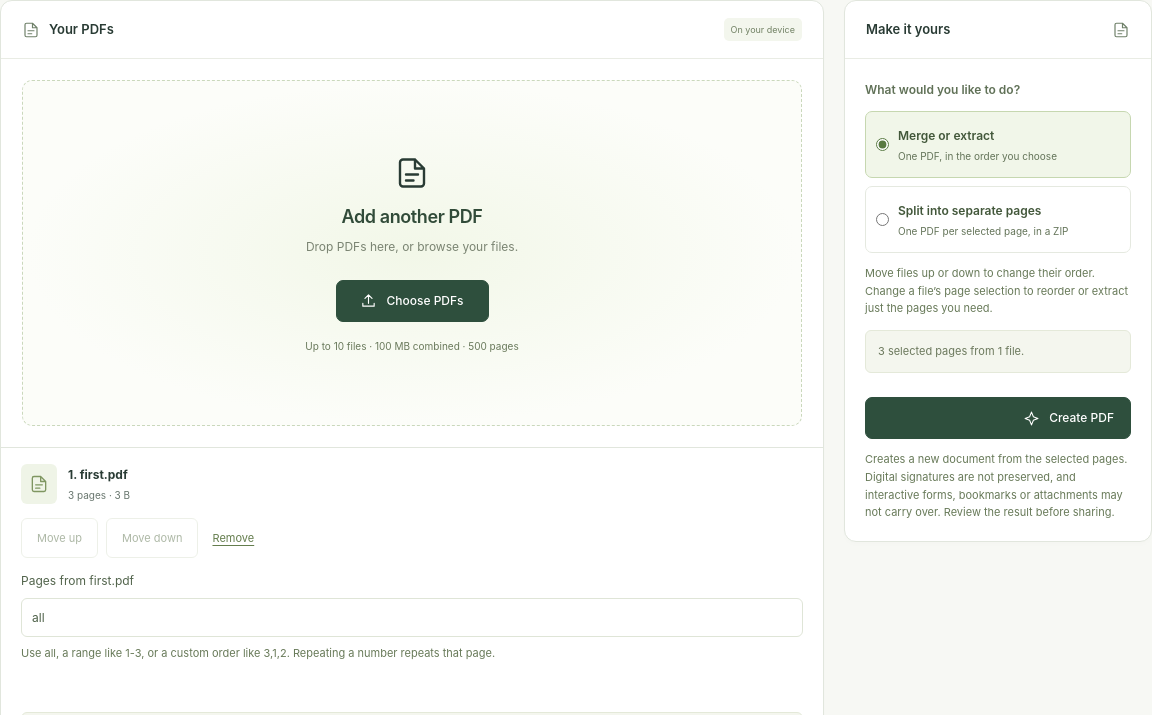
Test: blocks invalid ranges and explains why splitting multiple PDFs is unavailable
Earlier steps of the test are not shown.
Later steps or results of the test are not shown.
Step 1. Replace the text in the field labelled "Pages from first.pdf" with "8" → (412, 618), box top-left (21, 598), bottom-right (803, 637)
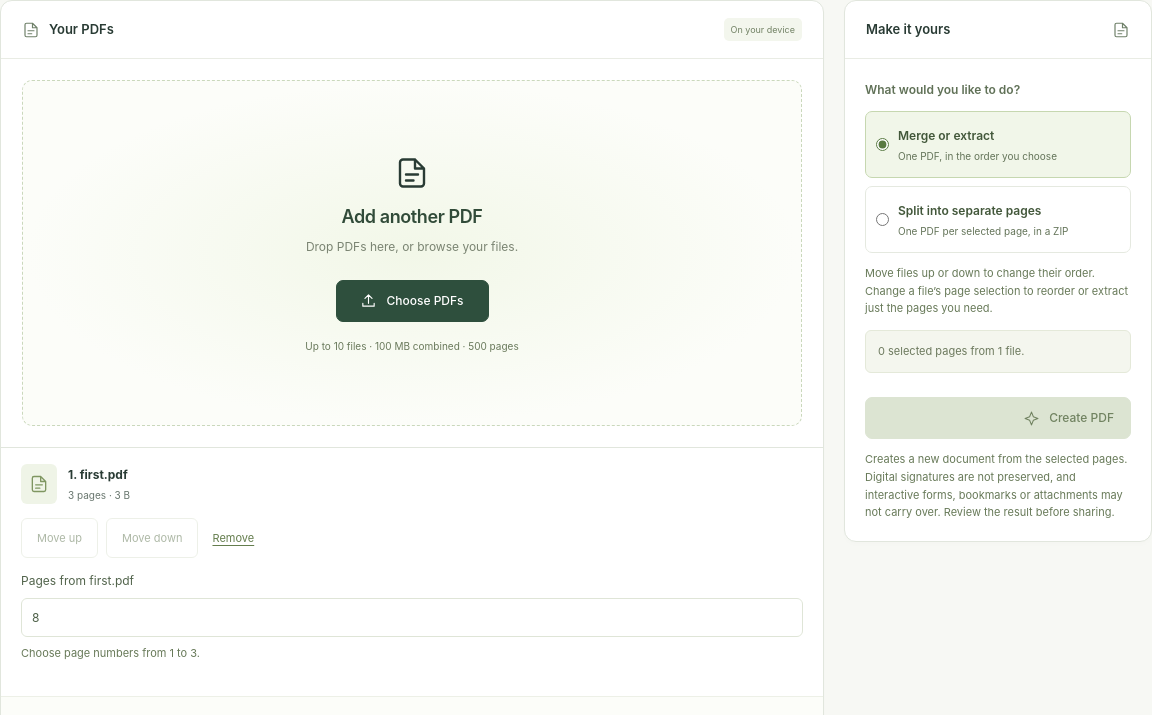
Result: the button "Create PDF" is disabled at top-left (865, 397), bottom-right (1131, 439)
